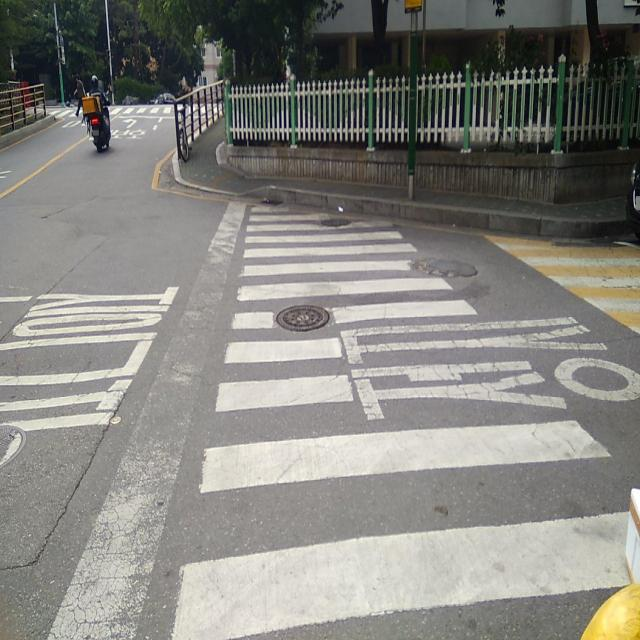횡단보도: (168, 202, 632, 640)
